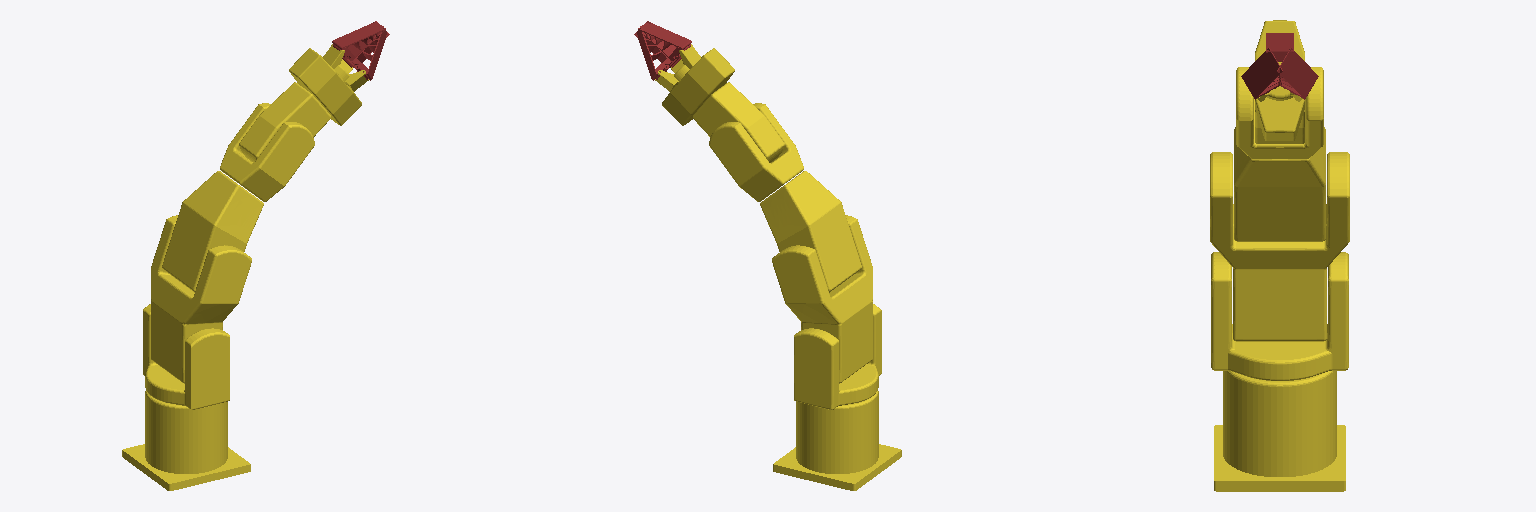
The robot description file, URDF, robot "minibot":
<?xml version="1.0" encoding="utf-8"?>
<!-- =================================================================================== -->
<!-- |    This document was autogenerated by xacro from minibot.urdf.xacro             | -->
<!-- |    EDITING THIS FILE BY HAND IS NOT RECOMMENDED                                 | -->
<!-- =================================================================================== -->
<robot name="minibot">
  <link name="base_link">
    <visual>
      <origin rpy="0 0 0" xyz="0.0 0 0.0"/>
      <material name="body">
        <color rgba="0.905882352941 0.823529411765 0.250980392157 1.0"/>
      </material>
      <geometry>
        <mesh filename="package://minibot_moveit_config/config/stl/base.stl"/>
      </geometry>
    </visual>
    <collision>
      <geometry>
        <mesh filename="package://minibot_moveit_config/config/stl/base_collision.stl"/>
      </geometry>
    </collision>
  </link>
  <joint name="base_joint" type="revolute">
    <origin rpy="0.0 0 0.0" xyz="0 0 0.1005"/>
    <parent link="base_link"/>
    <child link="shoulder_link"/>
    <axis xyz="0 0 1"/>
    <limit effort="10.0" lower="-2.35619449019" upper="2.35619449019" velocity="1.57079632679"/>
    <safety_controller k_position="100.0" k_velocity="40.0" soft_lower_limit="-2.26892802759" soft_upper_limit="2.26892802759"/>
  </joint>
  <link name="shoulder_link">
    <visual>
      <origin rpy="0.0 -1.57079632679 -1.57079632679" xyz="0 0 0"/>
      <material name="body">
        <color rgba="0.905882352941 0.823529411765 0.250980392157 1.0"/>
      </material>
      <geometry>
        <mesh filename="package://minibot_moveit_config/config/stl/shoulder.stl"/>
      </geometry>
    </visual>
    <collision>
      <geometry>
        <mesh filename="package://minibot_moveit_config/config/stl/shoulder_collision.stl"/>
      </geometry>
    </collision>
  </link>
  <joint name="shoulder_joint" type="revolute">
    <origin rpy="0.0 0 0" xyz="0 0 0.0745"/>
    <parent link="shoulder_link"/>
    <child link="upperarm_link"/>
    <axis xyz="0 1 0"/>
    <limit effort="20" lower="-1.57079632679" upper="1.83259571459" velocity="2.09439510239"/>
    <safety_controller k_position="100.0" k_velocity="40.0" soft_lower_limit="-3.33794219444" soft_upper_limit="1.74532925199"/>
  </joint>
  <link name="upperarm_link">
    <visual>
      <origin rpy="0.0 -1.57079632679 1.57079632679" xyz="0 0 0"/>
      <material name="body">
        <color rgba="0.905882352941 0.823529411765 0.250980392157 1.0"/>
      </material>
      <geometry>
        <mesh filename="package://minibot_moveit_config/config/stl/upperarm.stl"/>
      </geometry>
    </visual>
    <collision>
      <geometry>
        <mesh filename="package://minibot_moveit_config/config/stl/upperarm_collision.stl"/>
      </geometry>
    </collision>
  </link>
  <!-- measured in CAD/upperarm.ipt -->
  <joint name="upperarm_joint" type="revolute">
    <origin rpy="0.0 0.349065850399 0" xyz="0.027362 0 0.105175"/>
    <parent link="upperarm_link"/>
    <child link="elbow_link"/>
    <axis xyz="0 1 0"/>
    <limit effort="20" lower="-2.00712863979" upper="2.00712863979" velocity="1.57079632679"/>
    <safety_controller k_position="100.0" k_velocity="40.0" soft_lower_limit="-1.91986217719" soft_upper_limit="1.91986217719"/>
  </joint>
  <link name="elbow_link">
    <visual>
      <origin rpy="-1.57079632679 -1.57079632679 0.0" xyz="0 0 0"/>
      <material name="body">
        <color rgba="0.905882352941 0.823529411765 0.250980392157 1.0"/>
      </material>
      <geometry>
        <mesh filename="package://minibot_moveit_config/config/stl/elbow.stl"/>
      </geometry>
    </visual>
    <collision>
      <geometry>
        <mesh filename="package://minibot_moveit_config/config/stl/elbow_collision.stl"/>
      </geometry>
    </collision>
  </link>
  <!-- measured in CAD/elbow.ipt -->
  <joint name="elbow_joint" type="revolute">
    <origin rpy="0.0 0.401425727959 0" xyz="0.052749 0 0.159268"/>
    <parent link="elbow_link"/>
    <child link="forearm_link"/>
    <axis xyz="0 0 1"/>
    <limit effort="15" lower="-3.12413936107" upper="3.12413936107" velocity="2.09439510239"/>
    <safety_controller k_position="100.0" k_velocity="40.0" soft_lower_limit="-2.96705972839" soft_upper_limit="2.96705972839"/>
  </joint>
  <link name="forearm_link">
    <visual>
      <origin rpy="-1.57079632679 -1.57079632679 0" xyz="0 0 0"/>
      <material name="body">
        <color rgba="0.905882352941 0.823529411765 0.250980392157 1.0"/>
      </material>
      <geometry>
        <mesh filename="package://minibot_moveit_config/config/stl/forearm.stl"/>
      </geometry>
    </visual>
    <collision>
      <geometry>
        <mesh filename="package://minibot_moveit_config/config/stl/forearm_collision.stl"/>
      </geometry>
    </collision>
  </link>
  <joint name="forearm_joint" type="revolute">
    <origin rpy="0.0 0.0 0" xyz="0.0 0 0.0"/>
    <parent link="forearm_link"/>
    <child link="wrist_link"/>
    <axis xyz="0 1 0"/>
    <limit effort="5" lower="-2.26892802759" upper="1.95476876223" velocity="1.57079632679"/>
    <safety_controller k_position="100.0" k_velocity="40.0" soft_lower_limit="-2.18166156499" soft_upper_limit="1.86750229963"/>
  </joint>
  <link name="wrist_link">
    <visual>
      <origin rpy="0 3.14159265359 1.57079632679" xyz="0 0 0"/>
      <material name="body">
        <color rgba="0.905882352941 0.823529411765 0.250980392157 1.0"/>
      </material>
      <geometry>
        <mesh filename="package://minibot_moveit_config/config/stl/wrist.stl"/>
      </geometry>
    </visual>
  </link>
  <joint name="wrist_joint" type="revolute">
    <origin rpy="0.0 0.174532925199 0" xyz="0.01046 0 0.05842"/>
    <parent link="wrist_link"/>
    <child link="flange_link"/>
    <axis xyz="0 0 1"/>
    <limit effort="5" lower="-3.12413936107" upper="3.12413936107" velocity="3.14159265359"/>
    <safety_controller k_position="100.0" k_velocity="40.0" soft_lower_limit="-2.96705972839" soft_upper_limit="2.96705972839"/>
  </joint>
  <!--  ###### -->
  <!--  flange -->
  <!--  ###### -->
  <link name="flange_link">
  </link>
  <joint name="flange_joint" type="fixed">
    <origin rpy="0 0 0" xyz="0 0 0"/>
    <parent link="flange_link"/>
    <child link="palm_link"/>
  </joint>
  <!--  ####################### -->
  <!--  tool centre point tool0 -->
  <!--  ####################### -->
  <joint name="tool0_joint" type="fixed">
    <origin rpy="0 0 0" xyz="0 0 0.0"/>
    <parent link="flange_link"/>
    <child link="tool0_link"/>
  </joint>
  <link name="tool0_link">
  </link>
  <!--  ############ -->
  <!--  minibot palm -->
  <!--  +########### -->
  <link name="palm_link">
    <visual>
      3.12413936107
          
      <origin rpy="0 0 1.57079632679" xyz="0 0 0.042"/>
      <material name="palm">
        <color rgba="0.839215686275 0.764705882353 0.23137254902 1.0"/>
      </material>
      <geometry>
        <mesh filename="package://minibot_moveit_config/config/stl/palm.stl"/>
      </geometry>
    </visual>
    <collision>
      <geometry>
        <mesh filename="package://minibot_moveit_config/config/stl/palm_collision.stl"/>
      </geometry>
    </collision>
  </link>
  <joint name="knuckle_joint" type="revolute">
    <origin rpy="0 0 0" xyz="0 0 0"/>
    <parent link="flange_link"/>
    <child link="knuckle_link"/>
    <axis xyz="0 0 1"/>
    <limit effort="5.0" lower="0" upper="1.0471975512" velocity="3.14159265359"/>
  </joint>
  <link name="knuckle_link">
  </link>
  <joint name="palm_left_joint" type="continuous">
    <origin rpy="0 0 0" xyz="0.010392 -0.006 0"/>
    <parent link="flange_link"/>
    <child link="knuckle_left_link"/>
    <axis xyz="0 0 1"/>
    <mimic joint="knuckle_joint" multiplier="1"/>
  </joint>
  <link name="knuckle_left_link">
    <visual>
      <origin rpy="0 3.14159265359 1.57079632679" xyz="-0.010392 0.006 0.0425"/>
      <material name="palm">
        <color rgba="0.839215686275 0.764705882353 0.23137254902 1.0"/>
      </material>
      <geometry>
        <mesh filename="package://minibot_moveit_config/config/stl/knuckle_left.stl"/>
      </geometry>
    </visual>
  </link>
  <joint name="palm_right_joint" type="continuous">
    <origin rpy="0 0 0" xyz="0.010392 0.006 0"/>
    <parent link="flange_link"/>
    <child link="knuckle_right_link"/>
    <axis xyz="0 0 1"/>
    <mimic joint="knuckle_joint" multiplier="-1"/>
  </joint>
  <link name="knuckle_right_link">
    <visual>
      <origin rpy="0 3.14159265359 1.57079632679" xyz="-0.010392 -0.006 0.0425"/>
      <material name="palm">
        <color rgba="0.839215686275 0.764705882353 0.23137254902 1.0"/>
      </material>
      <geometry>
        <mesh filename="package://minibot_moveit_config/config/stl/knuckle_right.stl"/>
      </geometry>
    </visual>
    <!-- no collision objects, knuckles are excluded from collision checking -->
  </link>
  <!--  ############ -->
  <!--  minibot hand -->
  <!--  +########### -->
  <!-- heigth of centre finger relativey to palm centre -->
  <!-- measured from CAD Model "Gripper.iam" -->
  <joint name="finger_joint" type="revolute">
    <origin rpy="0 0 0" xyz="0 0 0"/>
    <parent link="flange_link"/>
    <child link="finger_link"/>
    <axis xyz="0 1 0"/>
    <limit effort="50.0" lower="-0.174532925199" upper="1.0471975512" velocity="31.4159265359"/>
  </joint>
  <link name="finger_link">
  </link>
  <joint name="finger_centre_joint" type="continuous">
    <origin rpy="0 0 0" xyz="-0.027392 0 0.0625"/>
    <parent link="flange_link"/>
    <child link="finger_centre_link"/>
    <axis xyz="0 1 0"/>
    <mimic joint="finger_joint" multiplier="-1"/>
  </joint>
  <link name="finger_centre_link">
    <visual>
      <origin rpy="1.57079632679 0 3.14159265359" xyz="0 0 0"/>
      <material name="finger">
        <color rgba="0.62 0.25 0.25 1.0"/>
      </material>
      <geometry>
        <mesh filename="package://minibot_moveit_config/config/stl/finger.stl"/>
      </geometry>
    </visual>
    <collision>
      <geometry>
        <mesh filename="package://minibot_moveit_config/config/stl/finger_collision.stl"/>
      </geometry>
    </collision>
  </link>
  <joint name="finger_left_joint" type="continuous">
    <origin rpy="0 0 -1.0471975512" xyz="0.003108 -0.017383 0.0625"/>
    <parent link="knuckle_left_link"/>
    <child link="finger_left_link"/>
    <axis xyz="0 1 0"/>
    <mimic joint="finger_joint" multiplier="1"/>
  </joint>
  <link name="finger_left_link">
    <visual>
      <origin rpy="1.57079632679 0 0" xyz="0.0 0 0"/>
      <material name="finger">
        <color rgba="0.62 0.25 0.25 1.0"/>
      </material>
      <geometry>
        <mesh filename="package://minibot_moveit_config/config/stl/finger.stl"/>
      </geometry>
    </visual>
    <collision>
      <geometry>
        <mesh filename="package://minibot_moveit_config/config/stl/finger_collision.stl"/>
      </geometry>
    </collision>
  </link>
  <joint name="finger_right_joint" type="continuous">
    <origin rpy="0 0 1.0471975512" xyz="0.003108 0.017383 0.0625"/>
    <parent link="knuckle_right_link"/>
    <child link="finger_right_link"/>
    <axis xyz="0 1 0"/>
    <mimic joint="finger_joint" multiplier="1"/>
  </joint>
  <link name="finger_right_link">
    <visual>
      <origin rpy="1.57079632679 0 0" xyz="0.0 0 0"/>
      <material name="finger">
        <color rgba="0.62 0.25 0.25 1.0"/>
      </material>
      <geometry>
        <mesh filename="package://minibot_moveit_config/config/stl/finger.stl"/>
      </geometry>
    </visual>
    <collision>
      <geometry>
        <mesh filename="package://minibot_moveit_config/config/stl/finger_collision.stl"/>
      </geometry>
    </collision>
  </link>
</robot>

--- Facts derived from the render (not from the file) ---
3 views of the same robot in one strip: view 1: azimuth 30°, elevation 25°; view 2: azimuth 150°, elevation 25°; view 3: azimuth 270°, elevation 25° (orthographic).
Model minibot with 16 links and 15 joints (8 revolute, 5 continuous, 2 fixed), rooted at base_link, posed all joints at 0.
Links seen in each view (by area): view 1: upperarm_link, base_link, elbow_link, shoulder_link, forearm_link, palm_link, wrist_link, finger_centre_link, finger_left_link; view 2: upperarm_link, base_link, elbow_link, shoulder_link, forearm_link, palm_link, wrist_link, finger_centre_link, finger_right_link; view 3: base_link, upperarm_link, shoulder_link, elbow_link, forearm_link, palm_link, finger_left_link, finger_right_link, finger_centre_link.
Boxes of the visible links, bbox=[...] form: upperarm_link: bbox=[151, 215, 251, 383]; base_link: bbox=[122, 391, 250, 490]; elbow_link: bbox=[162, 171, 263, 292]; shoulder_link: bbox=[143, 304, 229, 409]; forearm_link: bbox=[220, 103, 314, 201]; palm_link: bbox=[289, 44, 361, 125]; wrist_link: bbox=[239, 82, 330, 162]; finger_centre_link: bbox=[332, 23, 385, 60]; finger_left_link: bbox=[352, 26, 386, 80]; upperarm_link: bbox=[772, 215, 872, 383]; base_link: bbox=[773, 391, 901, 490]; elbow_link: bbox=[760, 171, 861, 292]; shoulder_link: bbox=[794, 304, 881, 409]; forearm_link: bbox=[709, 103, 803, 201]; palm_link: bbox=[662, 44, 734, 125]; wrist_link: bbox=[693, 82, 784, 162]; finger_centre_link: bbox=[638, 23, 691, 60]; finger_right_link: bbox=[637, 26, 671, 80]; base_link: bbox=[1214, 371, 1345, 491]; upperarm_link: bbox=[1210, 152, 1349, 341]; shoulder_link: bbox=[1211, 252, 1348, 380]; elbow_link: bbox=[1234, 127, 1325, 241]; forearm_link: bbox=[1236, 67, 1323, 158]; palm_link: bbox=[1255, 20, 1304, 140]; finger_left_link: bbox=[1241, 48, 1282, 99]; finger_right_link: bbox=[1277, 48, 1318, 99]; finger_centre_link: bbox=[1266, 33, 1293, 61].
Size in the robot's own frame: 0.3403 by 0.122 by 0.5266 metres.
Meshes: 10 distinct files referenced, 12 mesh visuals loaded (10 binary STL).